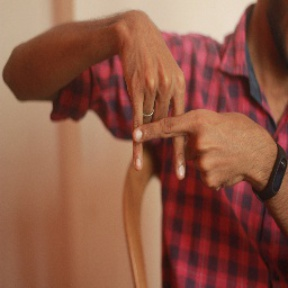H: (112, 66, 216, 178)
